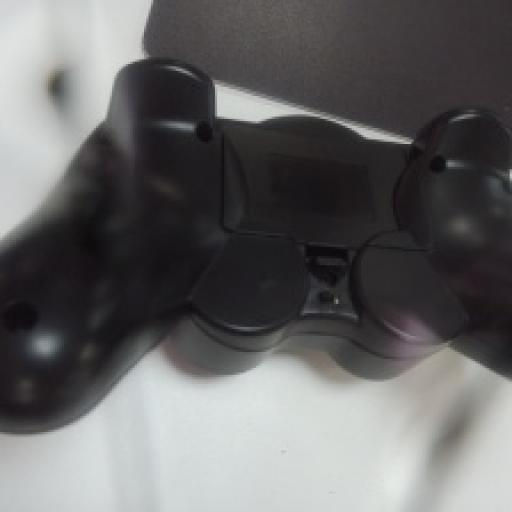game pad: (0, 59, 510, 430)
